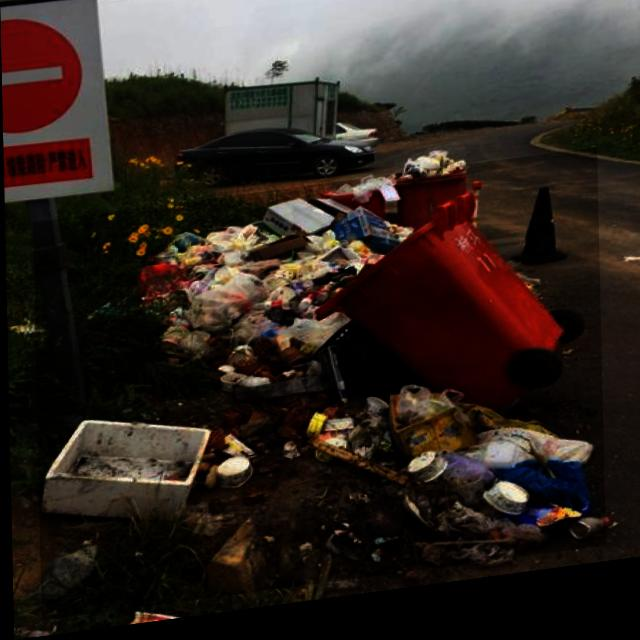garbage: (32, 164, 603, 622)
overflow: (394, 160, 466, 242)
